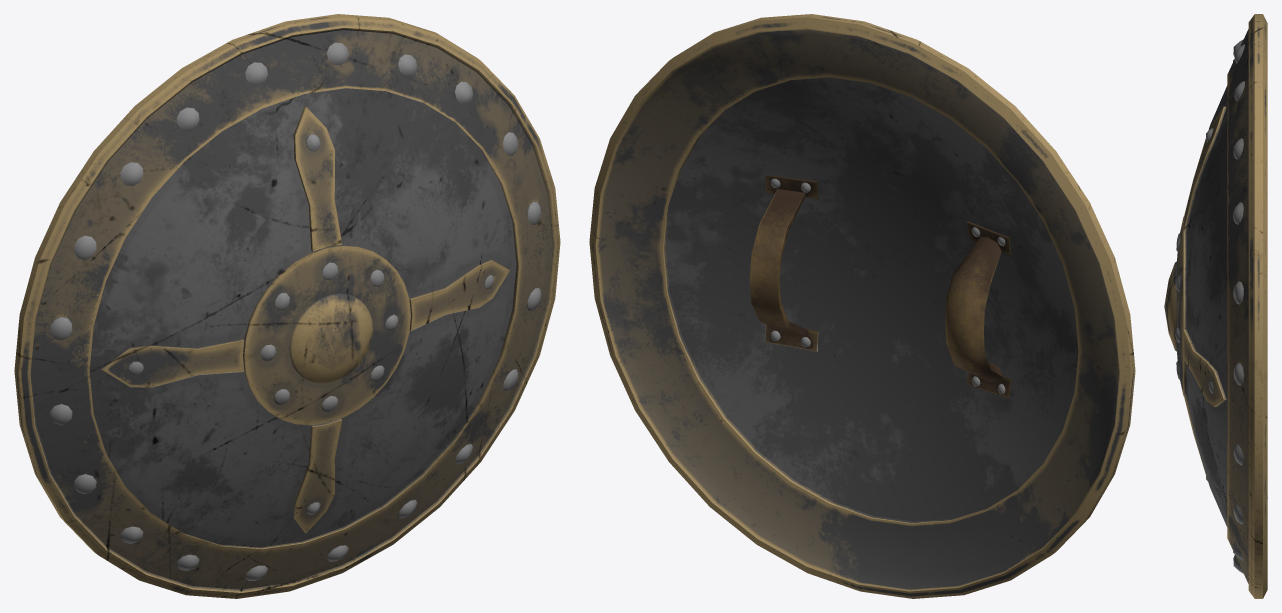
The model's file is Shield.fbx.
3 views of the same model, side by side, from view 1: azimuth 30°, elevation 25°; view 2: azimuth 150°, elevation 25°; view 3: azimuth 270°, elevation 25° (orthographic). The views are drawn at different scales.
Visible parts, largest first — view 1: Shield; view 2: Shield; view 3: Shield.
Part boxes in pixels (x1,y1,x2,y2): Shield: [14, 14, 560, 598]; Shield: [589, 14, 1135, 598]; Shield: [1164, 14, 1267, 598].
Size of the model in its own units: 127 by 127 by 22.4.
